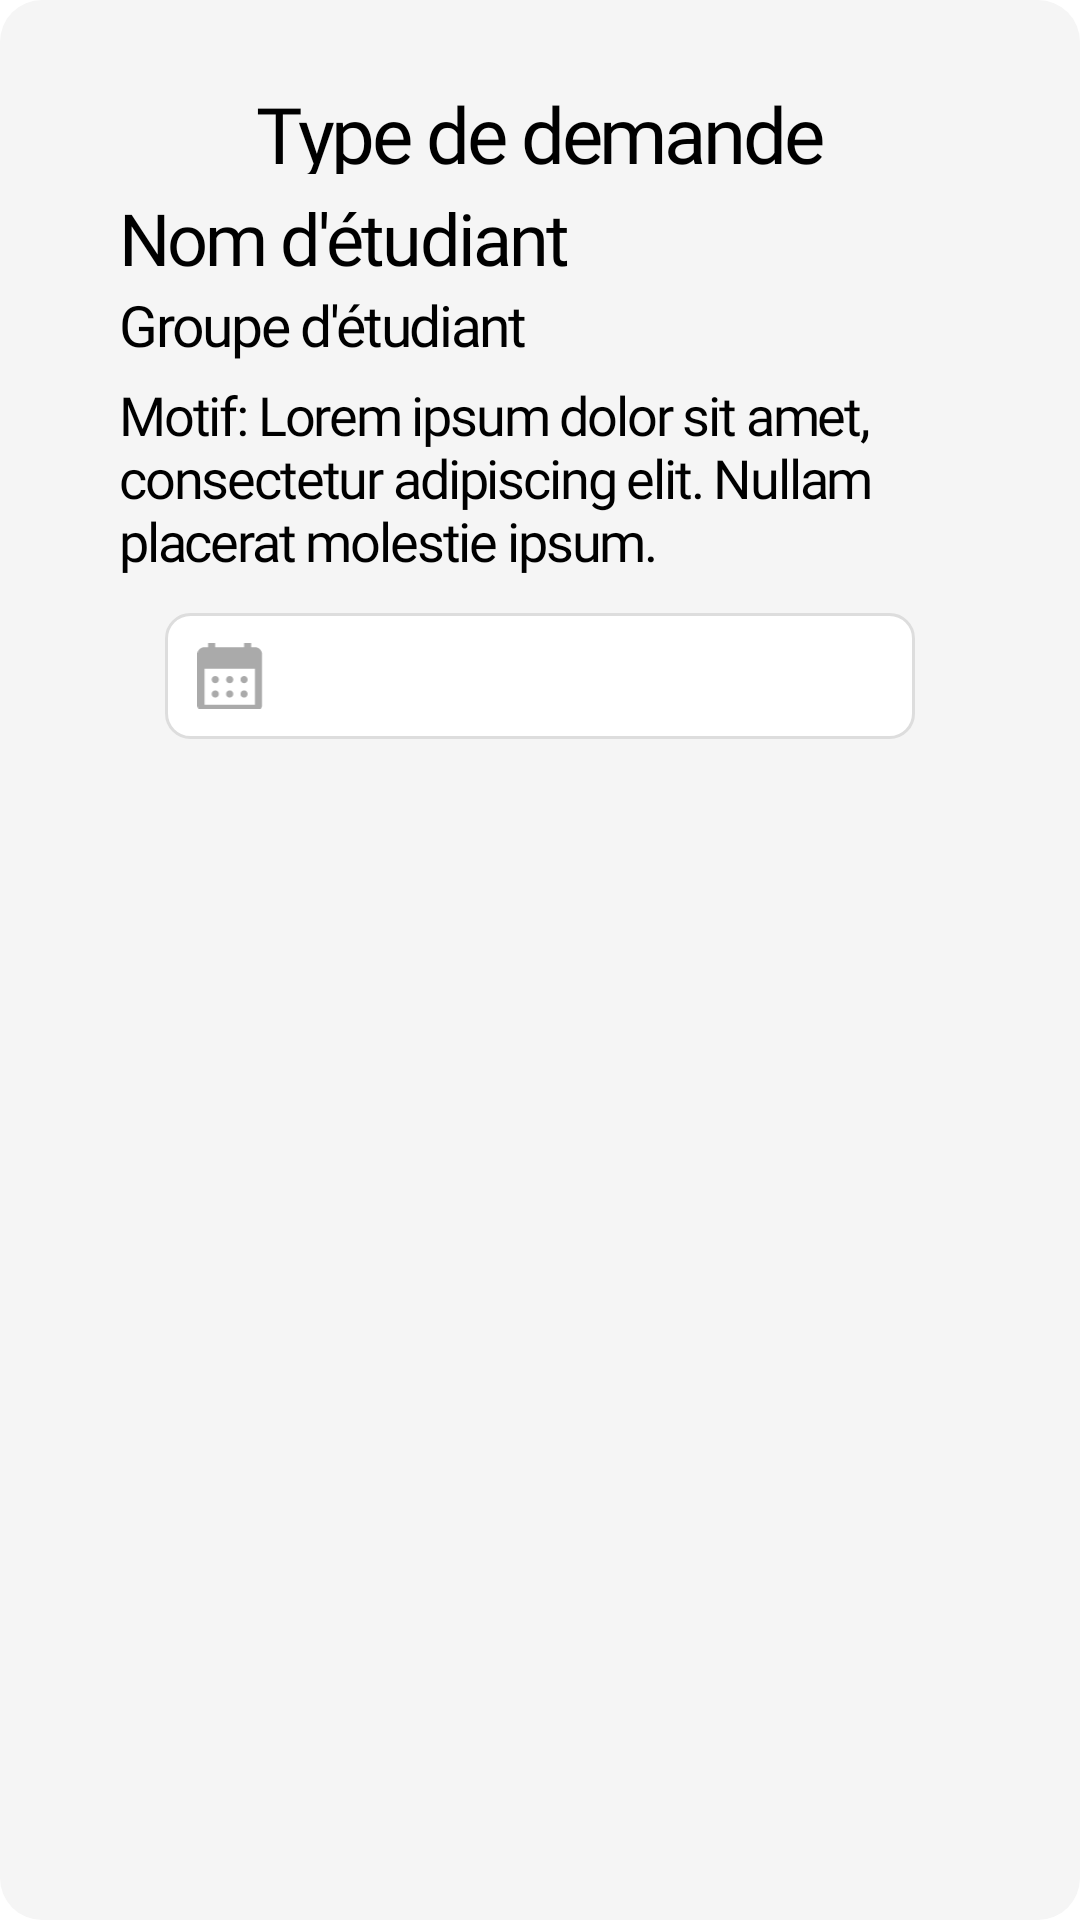

Icons on this 1080 × 1920 Android screen, each with the point to tap as point (x, y):
calendar date: point (229, 676)
